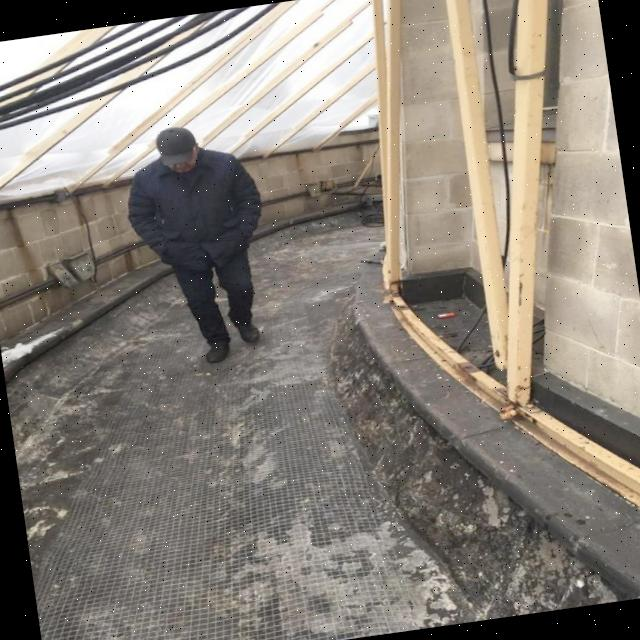NoHelmet: (152, 125, 205, 179)
